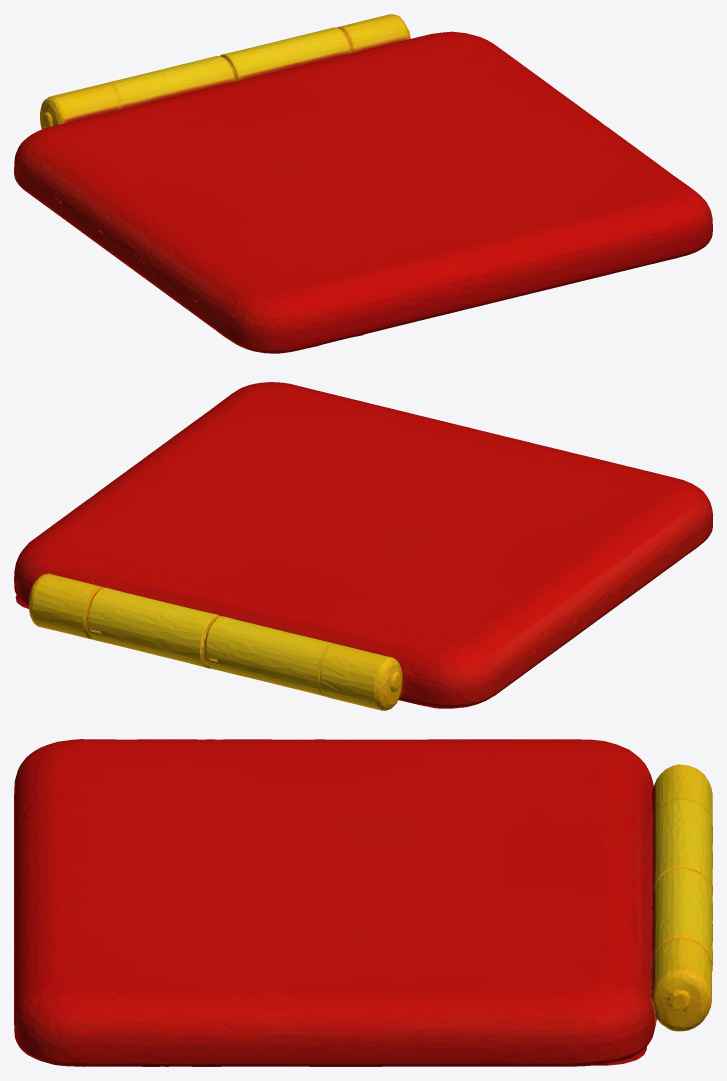
The model's file is lid.glb.
3 renders of one model, top to bottom at view 1: azimuth 30°, elevation 25°; view 2: azimuth 150°, elevation 25°; view 3: azimuth 270°, elevation 25°, orthographic. The views are drawn at different scales.
Visible parts, largest first — view 1: source_surface_0; view 2: source_surface_0; view 3: source_surface_0.
Boxes of the visible parts, left/top/right/bottom form: source_surface_0: left=14, top=14, right=712, bottom=353; source_surface_0: left=14, top=382, right=712, bottom=710; source_surface_0: left=14, top=739, right=712, bottom=1066.
Size of the model in its own units: 0.1632 by 0.0169 by 0.1683.
1 material, 1 textured.
